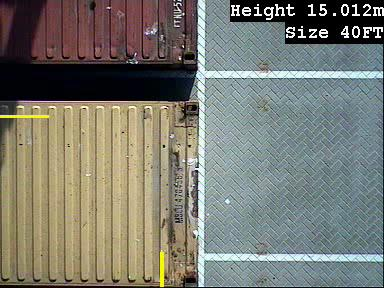groundmarker_2: (200, 198, 238, 260), (199, 23, 237, 85)
